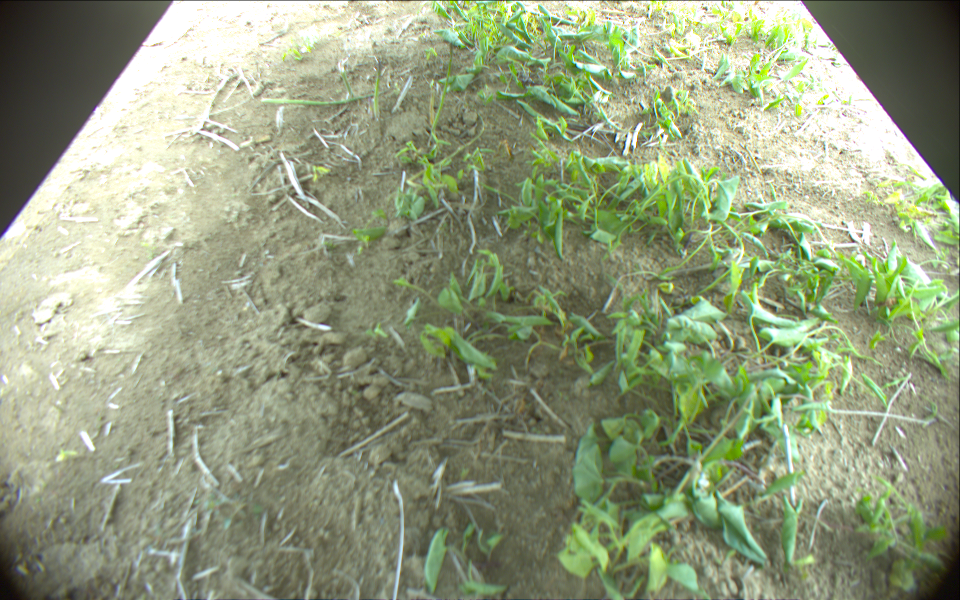aspa: (428, 43, 455, 140), (262, 84, 393, 103), (372, 58, 382, 121), (341, 71, 355, 98)
